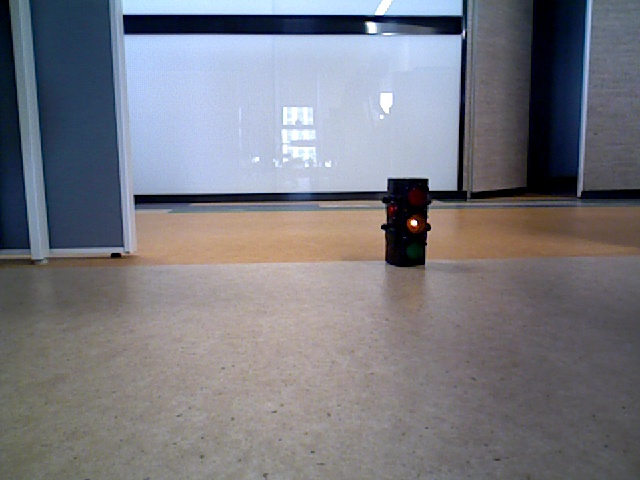yellow: (386, 180, 425, 266)
